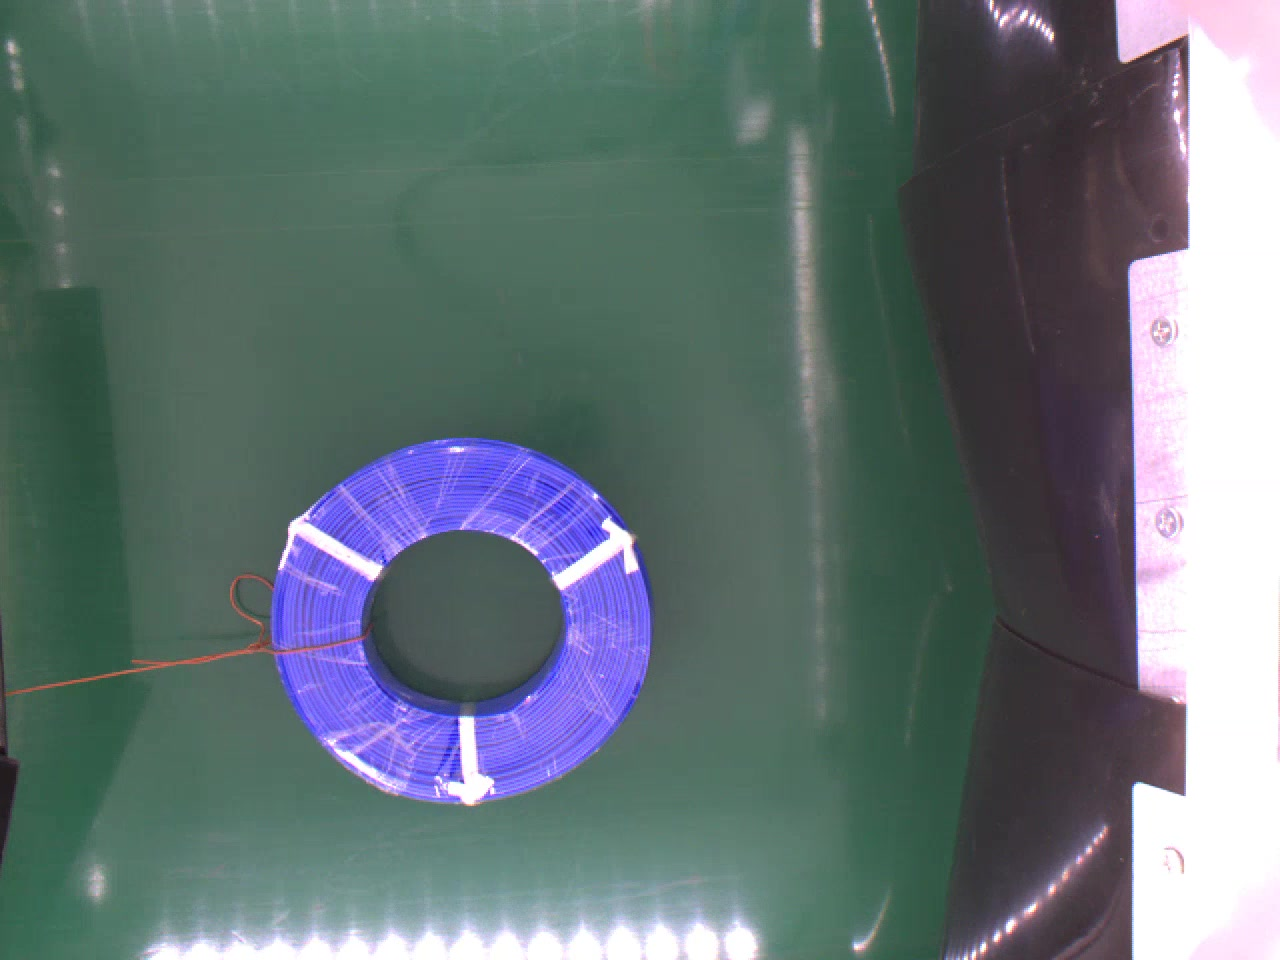blue: (263, 434, 659, 806)
